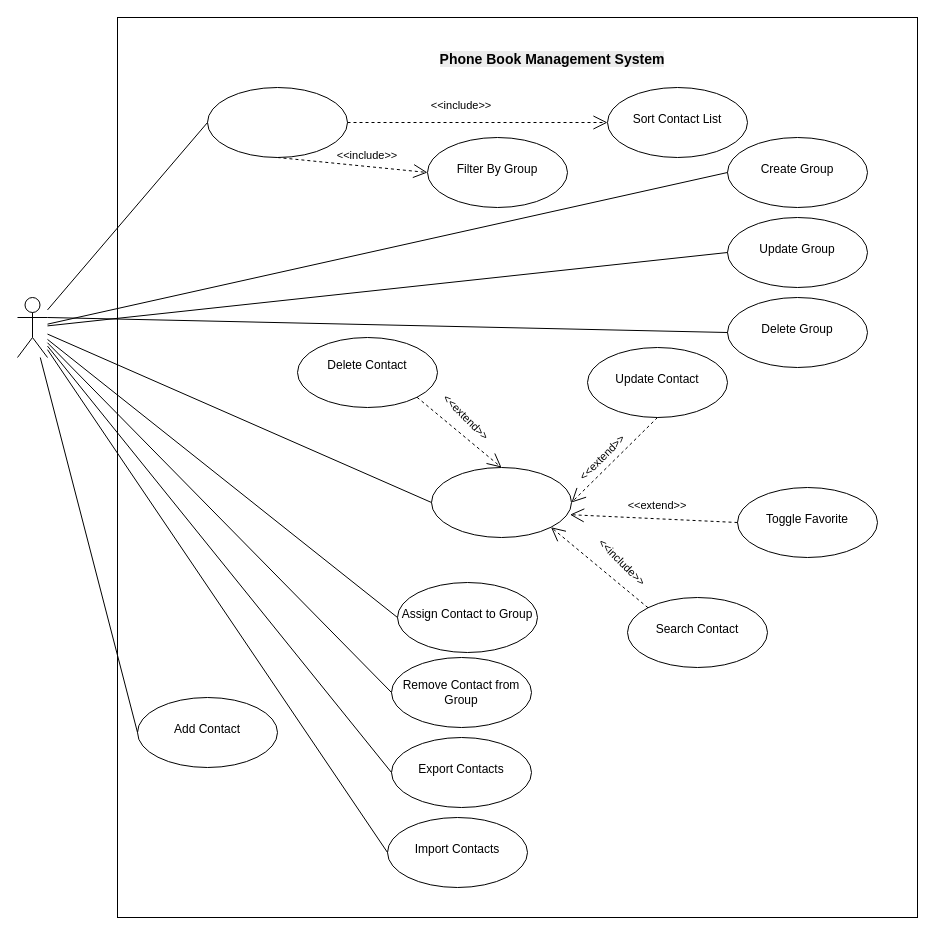
Some shapes in this 935 by 935 pixel diagram are drawn without their labels. The shapes that lost their labels are listed below. From the top down, each one's box as (x1, y1, x2, y2) in pixels, then its label:
(206, 86, 348, 158): View Contact List
(16, 296, 48, 358): User
(430, 466, 572, 538): View Contact Detail
